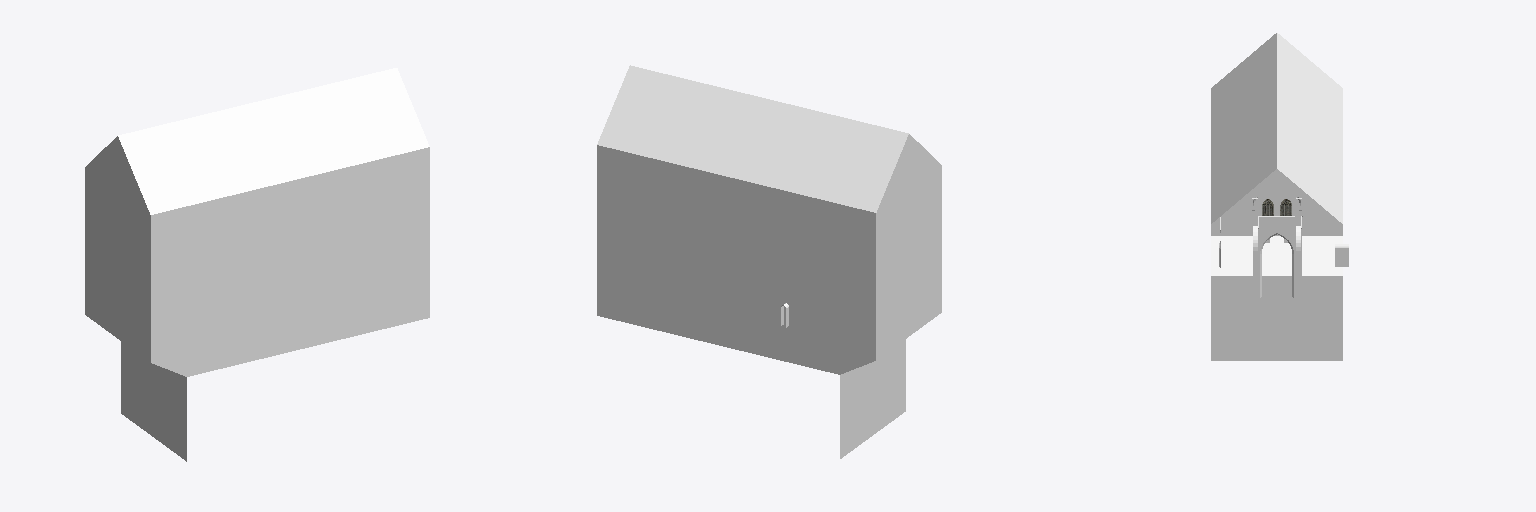
The picture shows the model from 3 angles: view 1: azimuth 30°, elevation 25°; view 2: azimuth 150°, elevation 25°; view 3: azimuth 270°, elevation 25°; orthographic projection.
Visible parts, largest first — view 1: mesh1; view 2: mesh1; view 3: mesh1, mesh2.
Part boxes in pixels (left/top/right/bottom): mesh1: left=85, top=68, right=429, bottom=461; mesh1: left=597, top=65, right=941, bottom=458; mesh1: left=1211, top=33, right=1342, bottom=360; mesh2: left=1211, top=236, right=1342, bottom=275.
Bounding box in the file's own units: 85.7 × 91.22 × 36.44.
Materials: 7 (1 with a texture image).